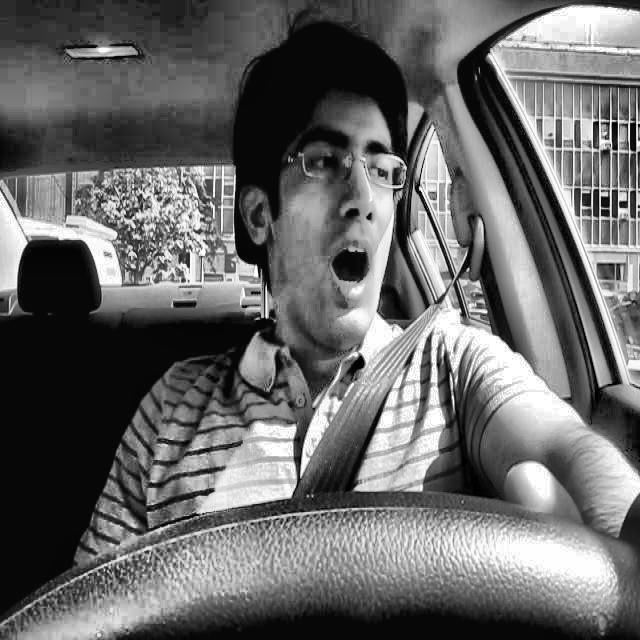open_eyes: (300, 143, 352, 180), (366, 152, 407, 191)
open_mouth: (315, 234, 385, 309)
